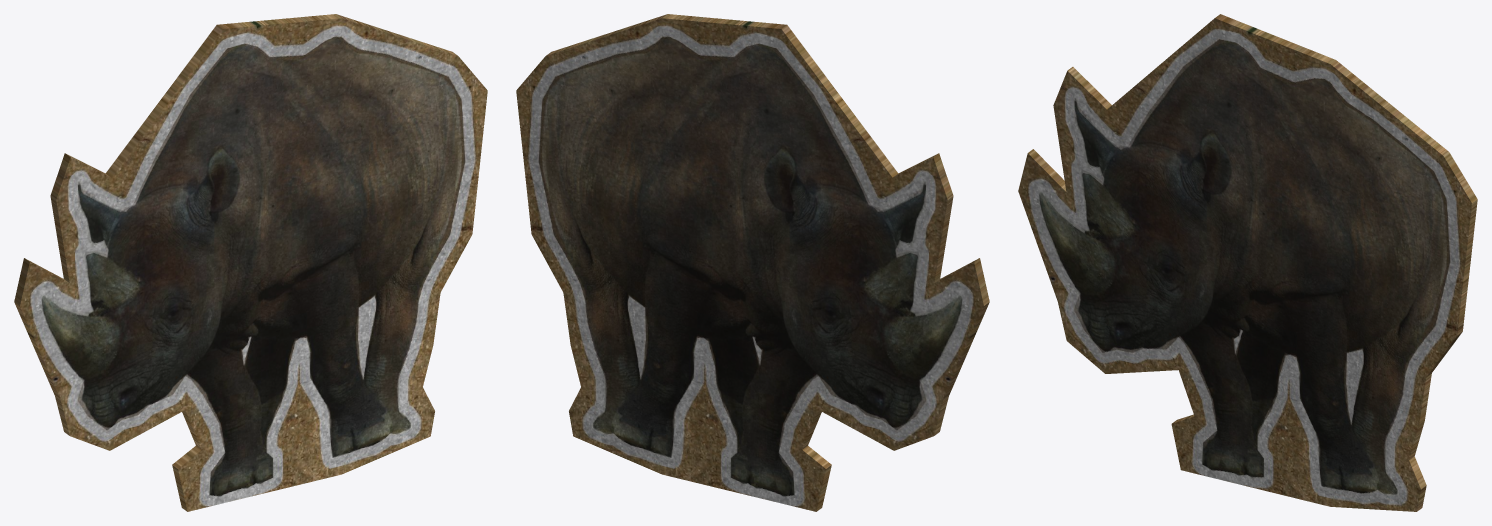
The model's file is Rhino.fbx.
The picture shows the model from 3 angles, left to right: view 1: azimuth 30°, elevation 25°; view 2: azimuth 150°, elevation 25°; view 3: azimuth 330°, elevation 25°; orthographic projection. The views are drawn at different scales.
Visible parts, largest first — view 1: PJBWCqR; view 2: PJBWCqR; view 3: PJBWCqR.
Boxes of the visible parts, box(x1,y1,x2,y2) form: PJBWCqR: box(14, 14, 487, 511); PJBWCqR: box(516, 14, 989, 511); PJBWCqR: box(1018, 14, 1477, 511).
Size of the model in its own units: 82.61 by 1.78 by 80.09.
